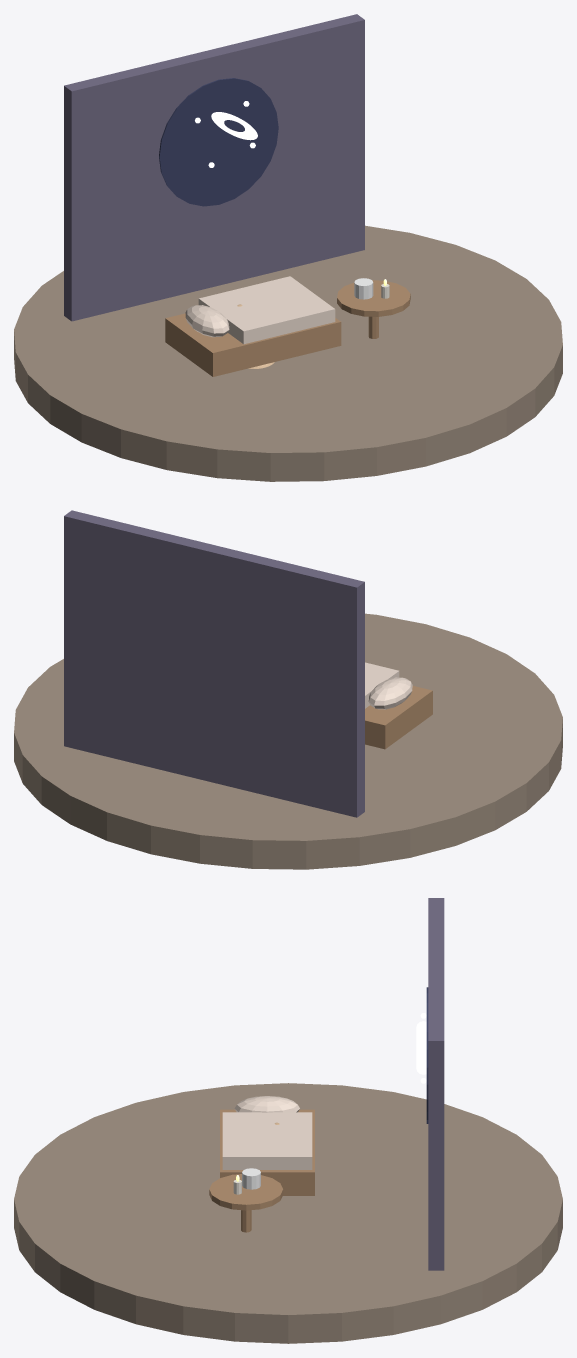
Rendered from scene4_bedtime.glb.
3 renders of one model, top to bottom at view 1: azimuth 30°, elevation 25°; view 2: azimuth 150°, elevation 25°; view 3: azimuth 270°, elevation 25°, orthographic.
Parts seen in each view (by area): view 1: Cylinder, Cube, Cylinder.001, Cube.002, Cube.001, Cylinder.002, Sphere.004, Torus; view 2: Cube, Cylinder, Cube.001, Sphere.004, Cube.002; view 3: Cylinder, Cube, Cube.002, Cylinder.002, Cube.001, Sphere.004, Torus.
Boxes of the visible parts, bbox=[...] form: Cylinder: bbox=[14, 225, 562, 481]; Cube: bbox=[64, 14, 364, 321]; Cylinder.001: bbox=[159, 78, 278, 206]; Cube.002: bbox=[198, 276, 335, 344]; Cube.001: bbox=[165, 313, 341, 376]; Cylinder.002: bbox=[337, 280, 410, 316]; Sphere.004: bbox=[185, 305, 229, 337]; Torus: bbox=[211, 112, 257, 140]; Cube: bbox=[64, 510, 364, 817]; Cylinder: bbox=[14, 613, 562, 869]; Cube.001: bbox=[365, 686, 432, 749]; Sphere.004: bbox=[368, 677, 412, 709]; Cube.002: bbox=[365, 662, 399, 708]; Cylinder: bbox=[14, 1083, 562, 1343]; Cube: bbox=[428, 898, 444, 1270]; Cube.002: bbox=[222, 1112, 312, 1169]; Cylinder.002: bbox=[209, 1174, 283, 1210]; Cube.001: bbox=[220, 1109, 314, 1195]; Sphere.004: bbox=[234, 1096, 300, 1112]; Torus: bbox=[416, 1021, 426, 1074].
Bounding box in the file's own units: 5.2 × 2.9 × 5.2.
